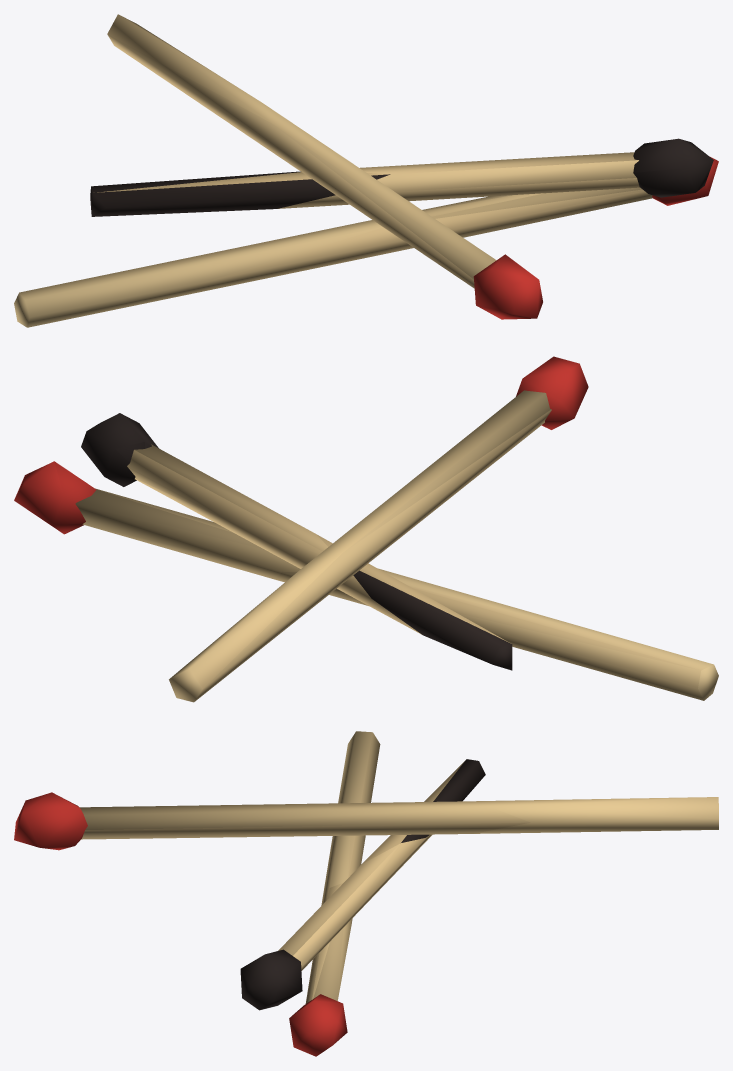
The model's file is ember_gc_matchsticks_lod2.glb.
3 renders of one model, top to bottom at view 1: azimuth 30°, elevation 25°; view 2: azimuth 150°, elevation 25°; view 3: azimuth 270°, elevation 25°, orthographic. The views are drawn at different scales.
Parts seen in each view (by area): view 1: ember_gc_matchsticks.001; view 2: ember_gc_matchsticks.001; view 3: ember_gc_matchsticks.001.
Part boxes in pixels (left/top/right/bottom): ember_gc_matchsticks.001: left=14, top=14, right=718, bottom=327; ember_gc_matchsticks.001: left=14, top=356, right=718, bottom=702; ember_gc_matchsticks.001: left=14, top=731, right=718, bottom=1056.
Bounding box in the file's own units: 14.5 × 2.57 × 14.49.
